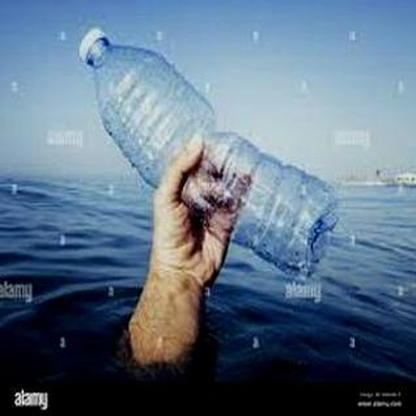plastic bottle: (77, 28, 338, 278)
